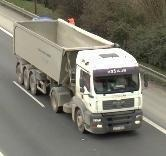truck: (15, 19, 144, 136)
